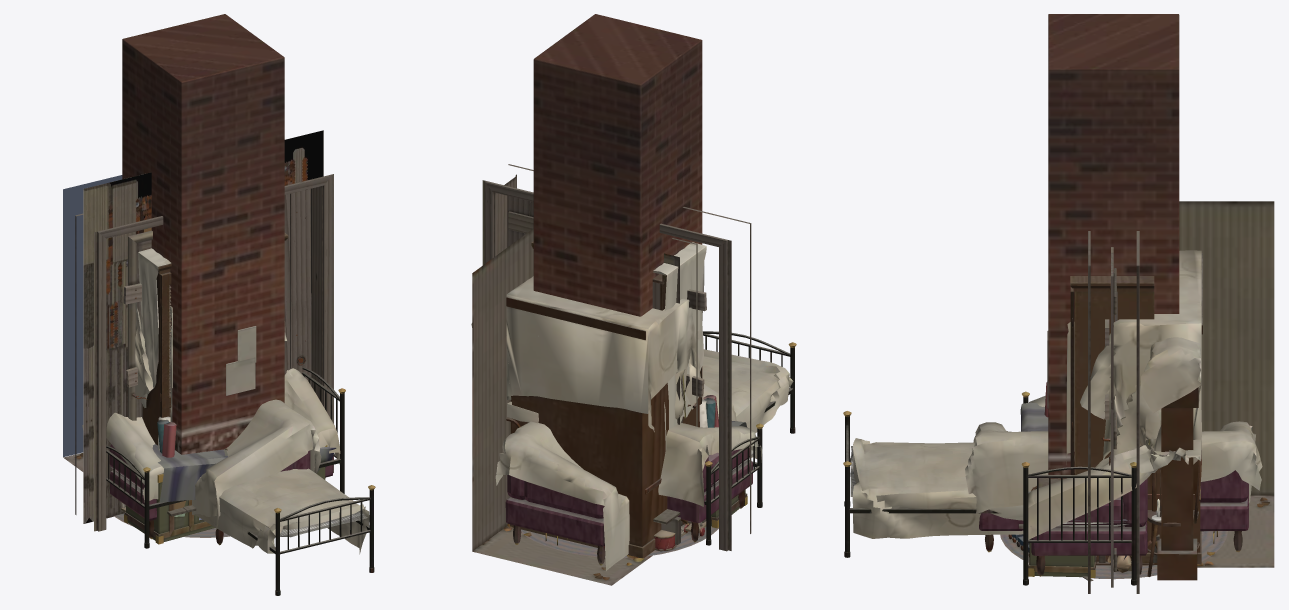
The model's file is attic.glb.
The picture shows the model from 3 angles, left to right: view 1: azimuth 30°, elevation 25°; view 2: azimuth 150°, elevation 25°; view 3: azimuth 270°, elevation 25°; orthographic projection. The views are drawn at different scales.
Parts seen in each view (by area): view 1: Col_chimney_breast_H400, Exit_attic_p0, Door_frame_attic, Solid_iron_bed_sheeted, Solid_sheet_sofa, Isl_sheeted_sofa, Exit_attic_p1, Isl_servant_bed, Door_leaf_attic, Ward_body_attic, Isl_trunk_pile, Ward_leafL_attic (+3 smaller); view 2: Col_chimney_breast_H400, Isl_sheeted_armoire, Exit_attic_p0, Solid_sheet_sofa, Door_frame_attic, Isl_sheeted_sofa, Solid_iron_bed_sheeted, Ward_body_attic, Isl_servant_bed, Isl_toy_circle, Door_leaf_attic, Isl_dress_forms (+2 smaller); view 3: Col_chimney_breast_H400, Exit_attic_p0, Isl_sheeted_sofa, Solid_iron_bed_sheeted, Solid_sheet_sofa, Isl_sheeted_armoire, Ward_body_attic, Isl_servant_bed, Isl_dress_forms, Door_frame_attic, Isl_toy_circle, Door_leaf_attic (+3 smaller).
Boxes of the visible parts, x1,y1,x2,y2 form: Col_chimney_breast_H400: (122,14,284,454); Exit_attic_p0: (63,130,323,523); Door_frame_attic: (75,174,333,531); Solid_iron_bed_sheeted: (194,468,375,595); Solid_sheet_sofa: (192,399,321,545); Isl_sheeted_sofa: (82,368,340,539); Exit_attic_p1: (63,175,122,457); Isl_servant_bed: (106,367,345,548); Door_leaf_attic: (284,189,311,385); Ward_body_attic: (138,233,288,445); Isl_trunk_pile: (124,445,327,544); Ward_leafL_attic: (160,272,171,417); Col_chimney_breast_H400: (533,14,702,399); Isl_sheeted_armoire: (506,276,700,558); Exit_attic_p0: (472,228,697,585); Solid_sheet_sofa: (495,384,736,570); Door_frame_attic: (482,164,751,551); Isl_sheeted_sofa: (471,323,762,542); Solid_iron_bed_sheeted: (702,331,796,433); Ward_body_attic: (531,241,706,525); Isl_servant_bed: (506,417,763,545); Isl_toy_circle: (521,521,718,557); Door_leaf_attic: (507,195,533,247); Isl_dress_forms: (674,369,718,525); Col_chimney_breast_H400: (1047,14,1179,478); Exit_attic_p0: (1113,201,1274,567); Isl_sheeted_sofa: (1028,337,1201,580); Solid_iron_bed_sheeted: (843,411,1023,557); Solid_sheet_sofa: (965,421,1262,552); Isl_sheeted_armoire: (1074,250,1202,564); Ward_body_attic: (1070,276,1154,565); Isl_servant_bed: (1020,391,1201,585); Isl_dress_forms: (1038,382,1161,560); Door_frame_attic: (1088,231,1139,593); Isl_toy_circle: (1000,531,1227,579); Door_leaf_attic: (1109,247,1116,587).
Size of the model in its own units: 2.25 by 4.23 by 3.19.
37 materials, 33 textured.
